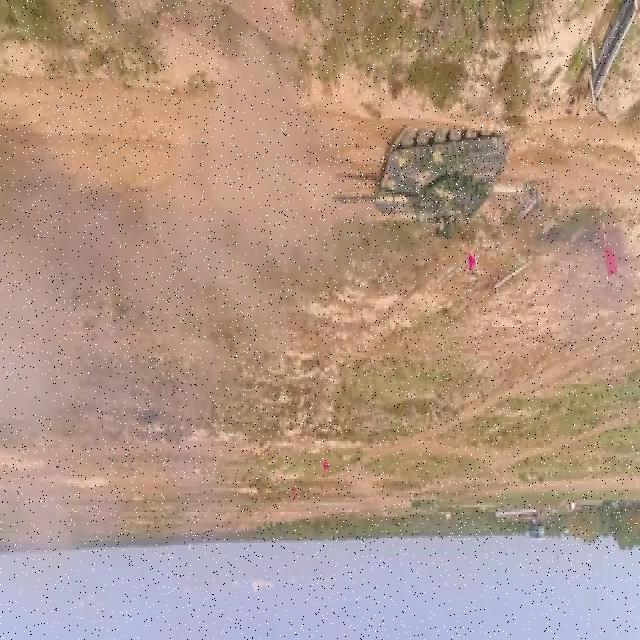MIL_MBT: (330, 124, 510, 224)
